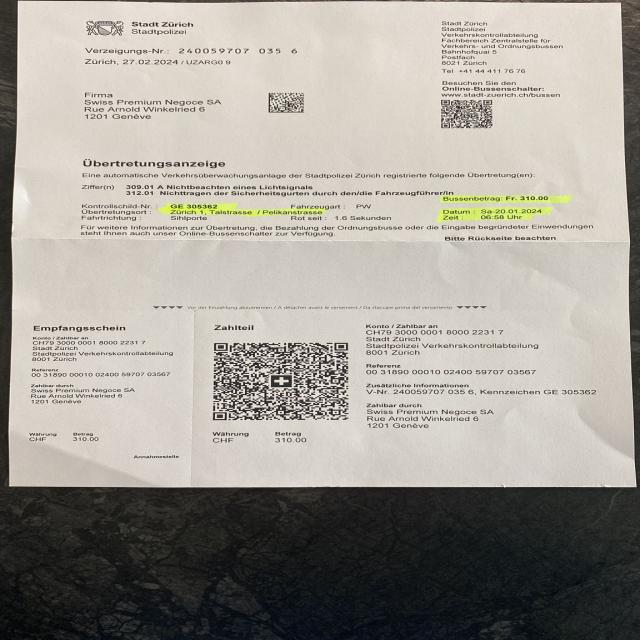paper-document-: (9, 2, 639, 490)
